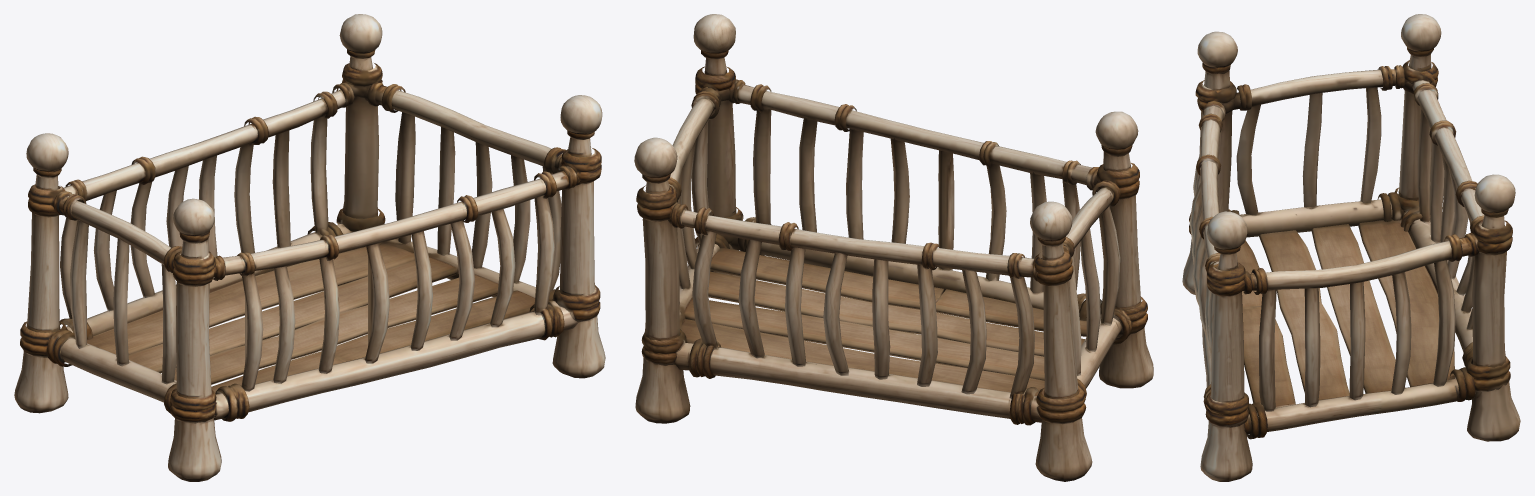
Rendered from act1_kit_v1_crib_frame.glb.
3 views of the same model, side by side, from view 1: azimuth 30°, elevation 25°; view 2: azimuth 150°, elevation 25°; view 3: azimuth 270°, elevation 25° (orthographic). The views are drawn at different scales.
Visible parts, largest first — view 1: act1_kit_v1_crib_frame; view 2: act1_kit_v1_crib_frame; view 3: act1_kit_v1_crib_frame.
Boxes of the visible parts, x1,y1,x2,y2 form: act1_kit_v1_crib_frame: (14,14,605,481); act1_kit_v1_crib_frame: (634,14,1153,481); act1_kit_v1_crib_frame: (1182,14,1520,481).
Bounding box in the file's own units: 1 × 0.5355 × 0.6252.
Materials: 1 (1 with a texture image).
